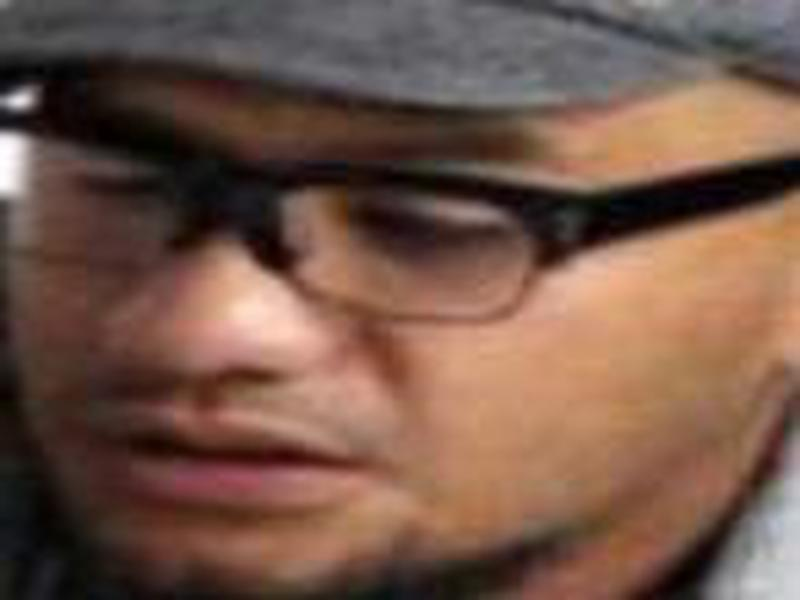without_mask: (10, 55, 763, 593)
